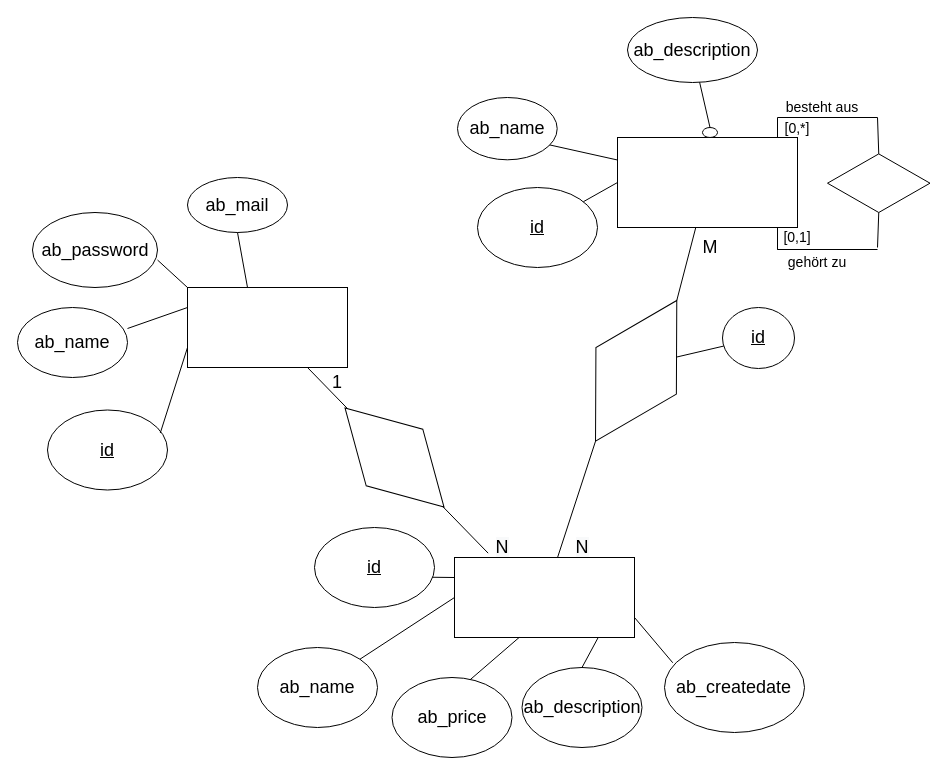
Some shapes in this 948 by 775 pixel diagram are drawn without their labels. The shapes that lost their labels are listed below. From the top down, each one's centre as x and y in pixels, then its label:
At point 707,182: "ab_ articlecategory".
At point 267,327: "ab_user".
At point 635,370: "hat".
At point 394,457: "verkaufen".
At point 544,597: "ab_article".
